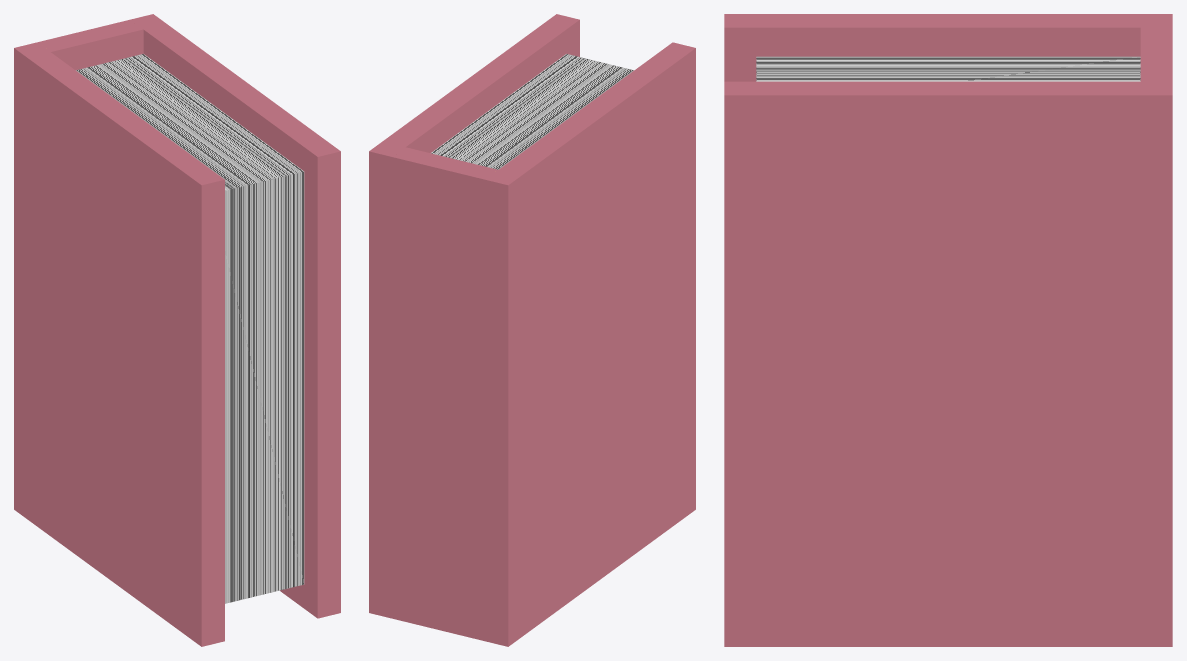
File: book_pink.glb
The picture shows the model from 3 angles, left to right: view 1: azimuth 30°, elevation 25°; view 2: azimuth 150°, elevation 25°; view 3: azimuth 270°, elevation 25°; orthographic projection. The views are drawn at different scales.
Size of the model in its own units: 12 by 38 by 28.
Materials: 1 (1 with a texture image).
